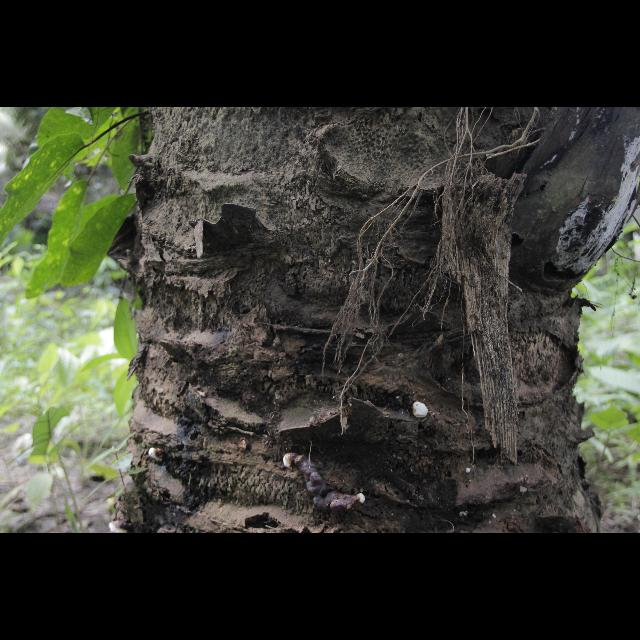ganoderma: (298, 455, 356, 515), (109, 522, 133, 535)
primordium: (149, 449, 169, 463), (413, 403, 429, 420), (284, 455, 298, 472), (357, 495, 367, 506), (466, 469, 473, 475)
